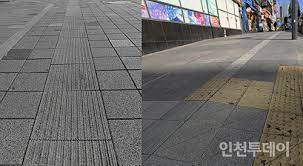guide_blocks: (192, 80, 303, 109), (264, 66, 303, 136)
